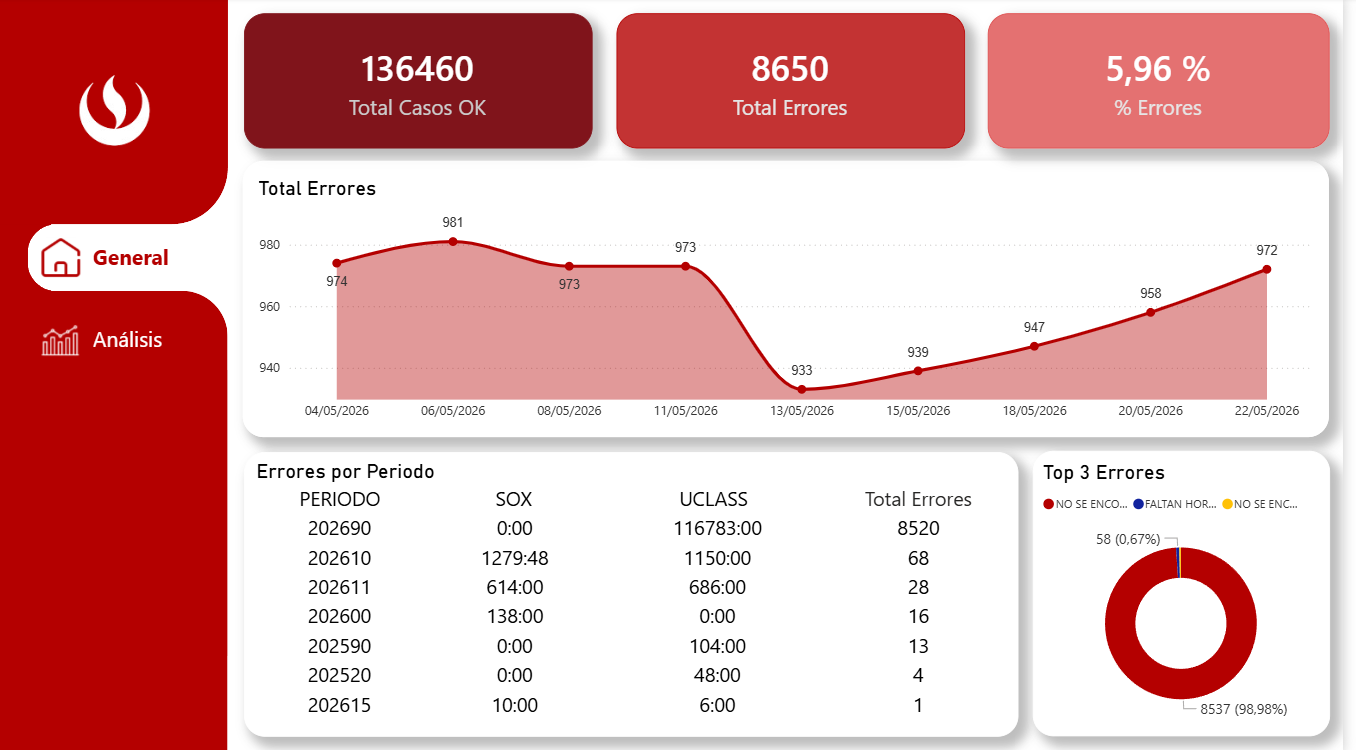

The dashboard page shown, as its layout file describes it:
{"tool":"powerbi","page":{"name":"General","canvas":[1280,720],"ordinal":0},"visuals":[{"type":"shape","box":[0,279.6,217.9,439.8],"z":0},{"type":"shape","box":[0,168.1,50,139.3],"z":1000},{"type":"shape","box":[0,0,218,216.5],"z":2000},{"type":"cardVisual","fields":{"Data":["BASES.Total Errores"]},"box":[587.5,15.1,331.6,128.7],"z":3000},{"type":"cardVisual","fields":{"Data":["BASES.Casos OK"]},"box":[233.2,15.1,331.6,128.7],"z":4000},{"type":"areaChart","title":"Total Errores","fields":{"Category":["BASES.FECHA_CORTE"],"Y":["BASES.Total Errores"]},"box":[232.6,156.1,1034.5,263.5],"z":5000},{"type":"image","box":[9.1,15.1,201.4,184.7],"z":6000},{"type":"tableEx","title":"Errores por Periodo","fields":{"Values":["BASES.PERIODO","BASES.SUM_SOX","BASES.SUM_UCLASS","BASES.Total Errores"]},"box":[233.2,433.1,737.4,271],"z":7000},{"type":"donutChart","title":"Top 3 Errores","fields":{"Category":["BASES.TIPO_ERROR"],"Y":["BASES.TOTAL ERRORES 1"]},"box":[984.1,432.7,283,271.6],"z":8000},{"type":"cardVisual","fields":{"Data":["BASES.% Errores"]},"box":[941.8,15.1,325.6,128.7],"z":9000},{"type":"actionButton","box":[27.3,295.5,176.1,63.6],"z":10000},{"type":"actionButton","box":[27,216.3,176,63.3],"z":11000},{"type":"textbox","box":[271.6,460,106.3,40],"z":12000},{"type":"textbox","box":[436.8,460,106.3,40],"z":13000},{"type":"textbox","box":[627.4,460,106.3,40],"z":14000},{"type":"textbox","box":[815.8,460,120,40],"z":15000}]}

Visuals, with their boxes in screenshot pixels (x1, y1, x2, y2), scaled from the page's 1280x720 canvas onto the 1356x750 screenshot:
shape: [0, 291, 231, 749]
shape: [0, 175, 53, 320]
shape: [0, 0, 231, 226]
cardVisual - BASES.Total Errores: [622, 16, 974, 150]
cardVisual - BASES.Casos OK: [247, 16, 598, 150]
"Total Errores" areaChart: [246, 163, 1342, 437]
image: [10, 16, 223, 208]
"Errores por Periodo" tableEx: [247, 451, 1028, 733]
"Top 3 Errores" donutChart: [1043, 451, 1342, 734]
cardVisual - BASES.% Errores: [998, 16, 1343, 150]
actionButton: [29, 308, 215, 374]
actionButton: [29, 225, 215, 291]
textbox: [288, 479, 400, 521]
textbox: [463, 479, 575, 521]
textbox: [665, 479, 777, 521]
textbox: [864, 479, 991, 521]
